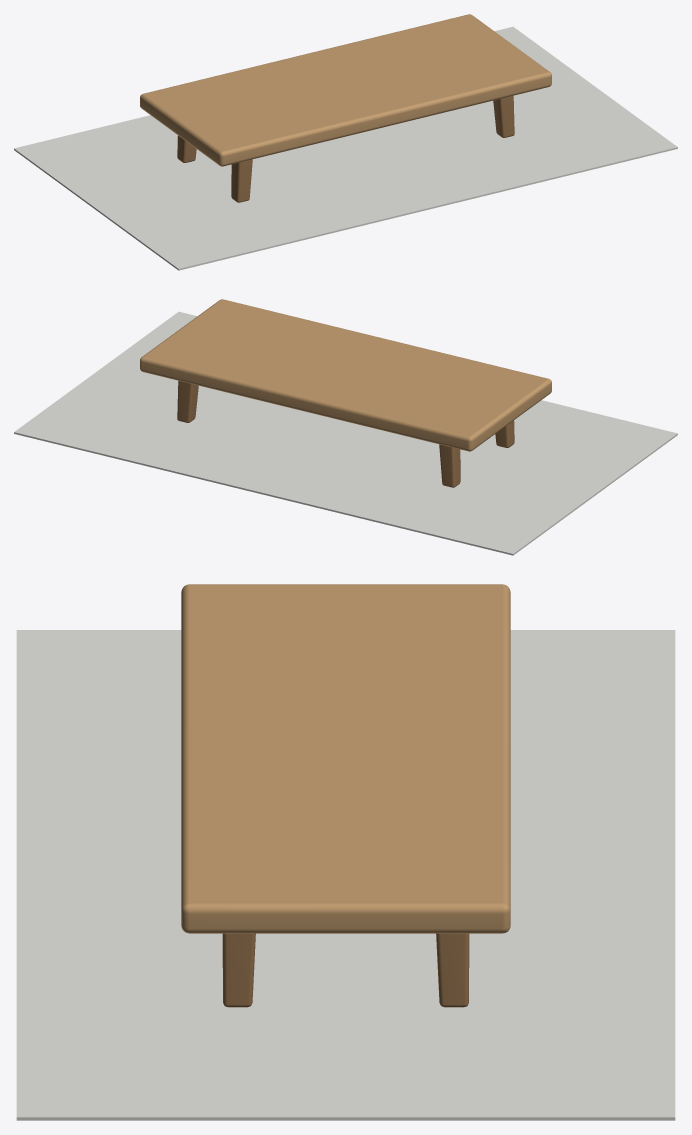
The model's file is clean_board_game_store_table.glb.
The picture shows the model from 3 angles, top to bottom: view 1: azimuth 30°, elevation 25°; view 2: azimuth 150°, elevation 25°; view 3: azimuth 270°, elevation 25°; orthographic projection. The views are drawn at different scales.
Visible parts, largest first — view 1: Preview_Light_Grey_Ground, Tabletop_Solid, Table_Leg_01, Table_Leg_02, Table_Leg_04; view 2: Preview_Light_Grey_Ground, Tabletop_Solid, Table_Leg_04, Table_Leg_03, Table_Leg_01; view 3: Preview_Light_Grey_Ground, Tabletop_Solid, Table_Leg_02, Table_Leg_03.
Part boxes in pixels (box(x1,y1,x2,y2)): Preview_Light_Grey_Ground: box(14, 26, 677, 270); Tabletop_Solid: box(140, 14, 551, 166); Table_Leg_01: box(231, 159, 252, 202); Table_Leg_02: box(493, 95, 514, 137); Table_Leg_04: box(177, 135, 196, 162); Preview_Light_Grey_Ground: box(14, 311, 677, 555); Tabletop_Solid: box(140, 299, 551, 451); Table_Leg_04: box(439, 444, 460, 487); Table_Leg_03: box(177, 380, 198, 422); Table_Leg_01: box(495, 420, 514, 447); Preview_Light_Grey_Ground: box(16, 630, 675, 1120); Tabletop_Solid: box(181, 584, 510, 933); Table_Leg_02: box(222, 933, 255, 1007); Table_Leg_03: box(436, 933, 469, 1007).
Bounding box in the file's own units: 6.3 × 0.802 × 3.6.
